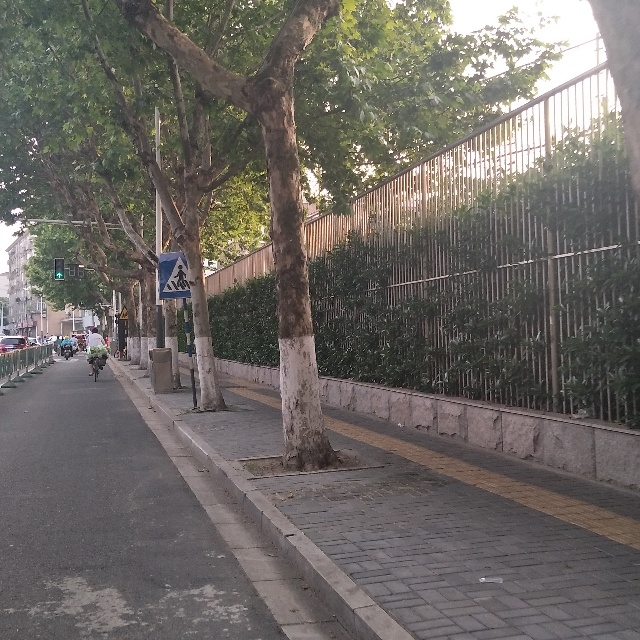crosswalk: (164, 251, 199, 296)
